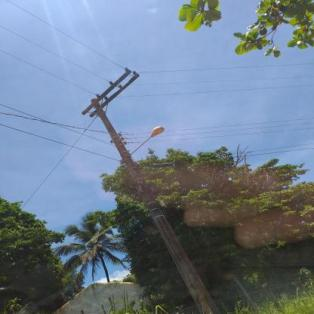Poste: (85, 94, 220, 314)
